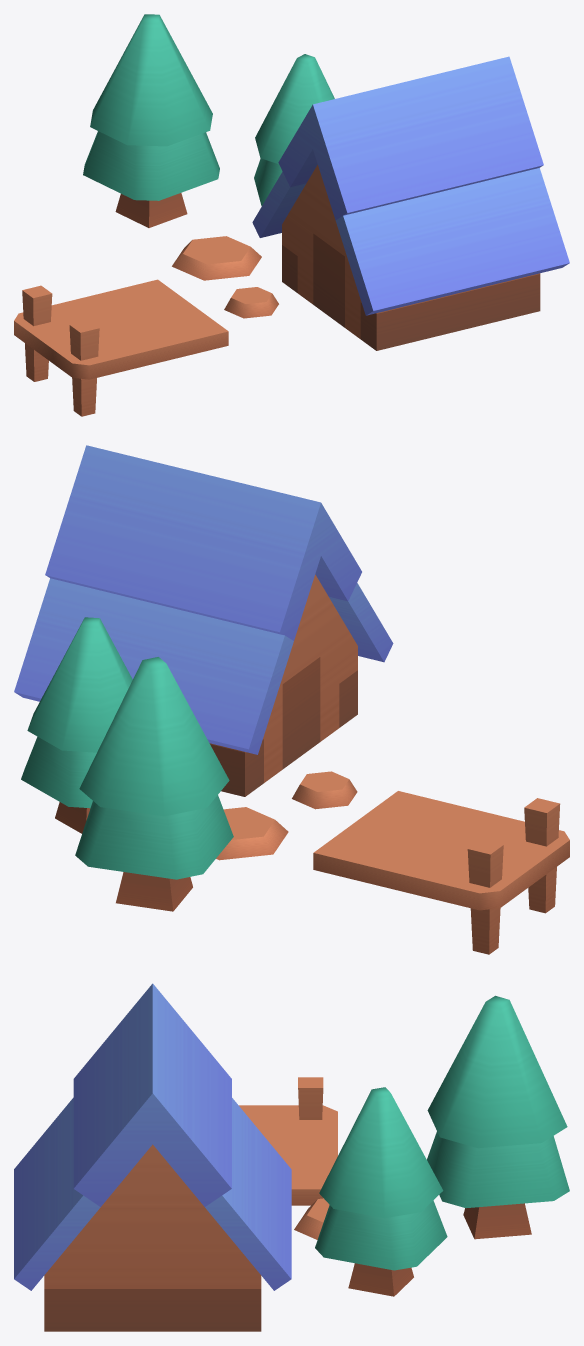
Rendered from dock.fbx.
The picture shows the model from 3 angles, top to bottom: view 1: azimuth 30°, elevation 25°; view 2: azimuth 150°, elevation 25°; view 3: azimuth 270°, elevation 25°; orthographic projection. The views are drawn at different scales.
Parts seen in each view (by area): view 1: building_dock; view 2: building_dock; view 3: building_dock.
Part boxes in pixels (box(x1,y1,x2,y2)): building_dock: box(14, 14, 569, 416); building_dock: box(14, 445, 569, 954); building_dock: box(14, 983, 569, 1331).
Bounding box in the file's own units: 77.1 × 47.81 × 76.92.
